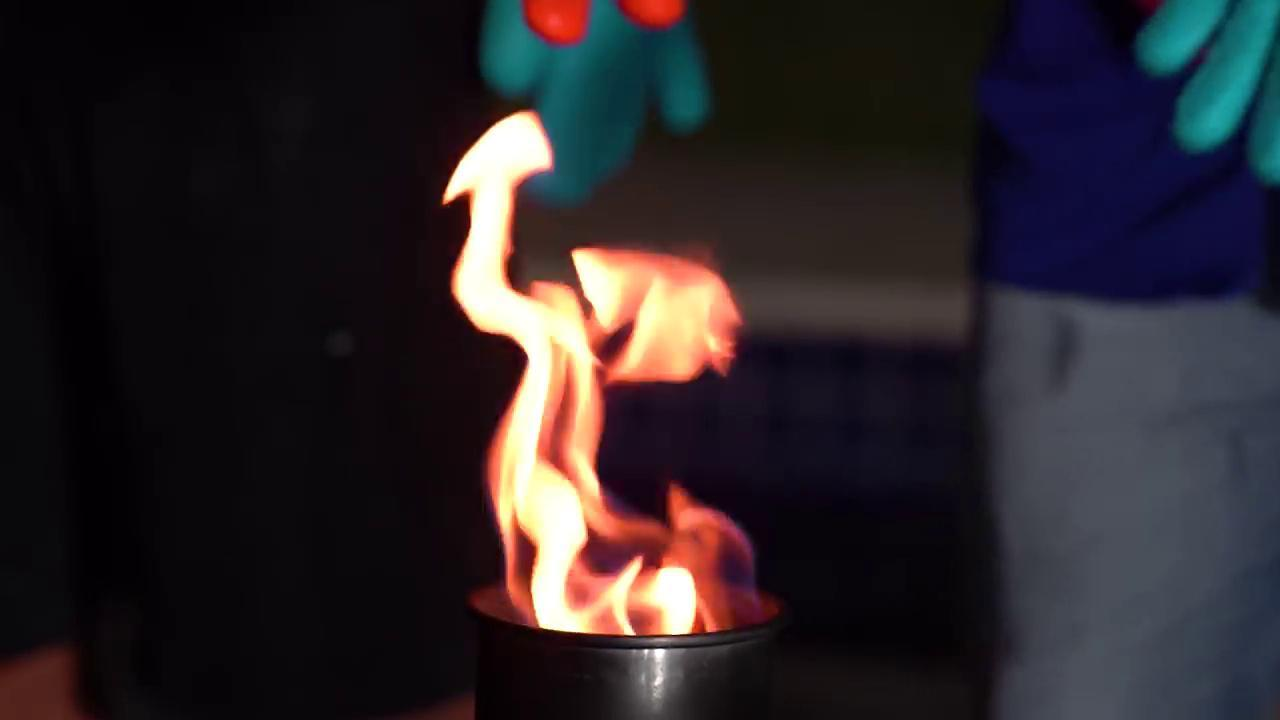Fire: (435, 79, 764, 657)
